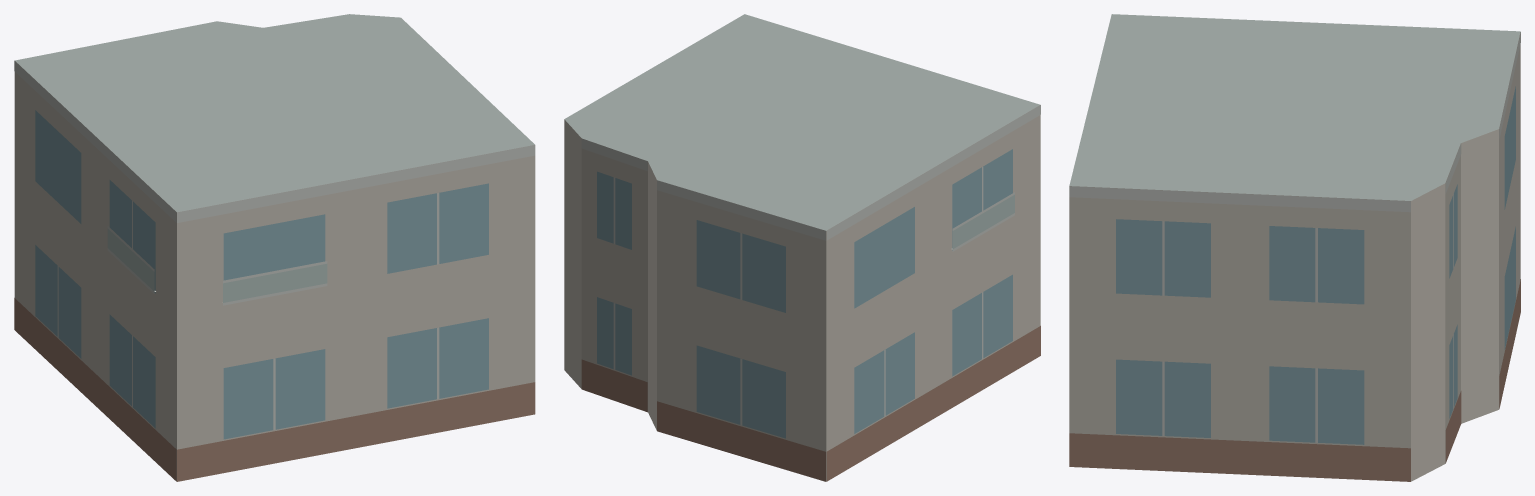
File: survey-upis-32721747.glb
3 views of the same model, side by side, from view 1: azimuth 30°, elevation 25°; view 2: azimuth 150°, elevation 25°; view 3: azimuth 270°, elevation 25° (orthographic). The views are drawn at different scales.
Parts seen in each view (by area): view 1: survey-upis-32721747.tmp; view 2: survey-upis-32721747.tmp; view 3: survey-upis-32721747.tmp.
Part boxes in pixels (box(x1,y1,x2,y2)): survey-upis-32721747.tmp: box(14, 14, 535, 481); survey-upis-32721747.tmp: box(564, 14, 1040, 481); survey-upis-32721747.tmp: box(1069, 14, 1520, 481).
Size of the model in its own units: 8.72 by 6.1 by 8.9.
